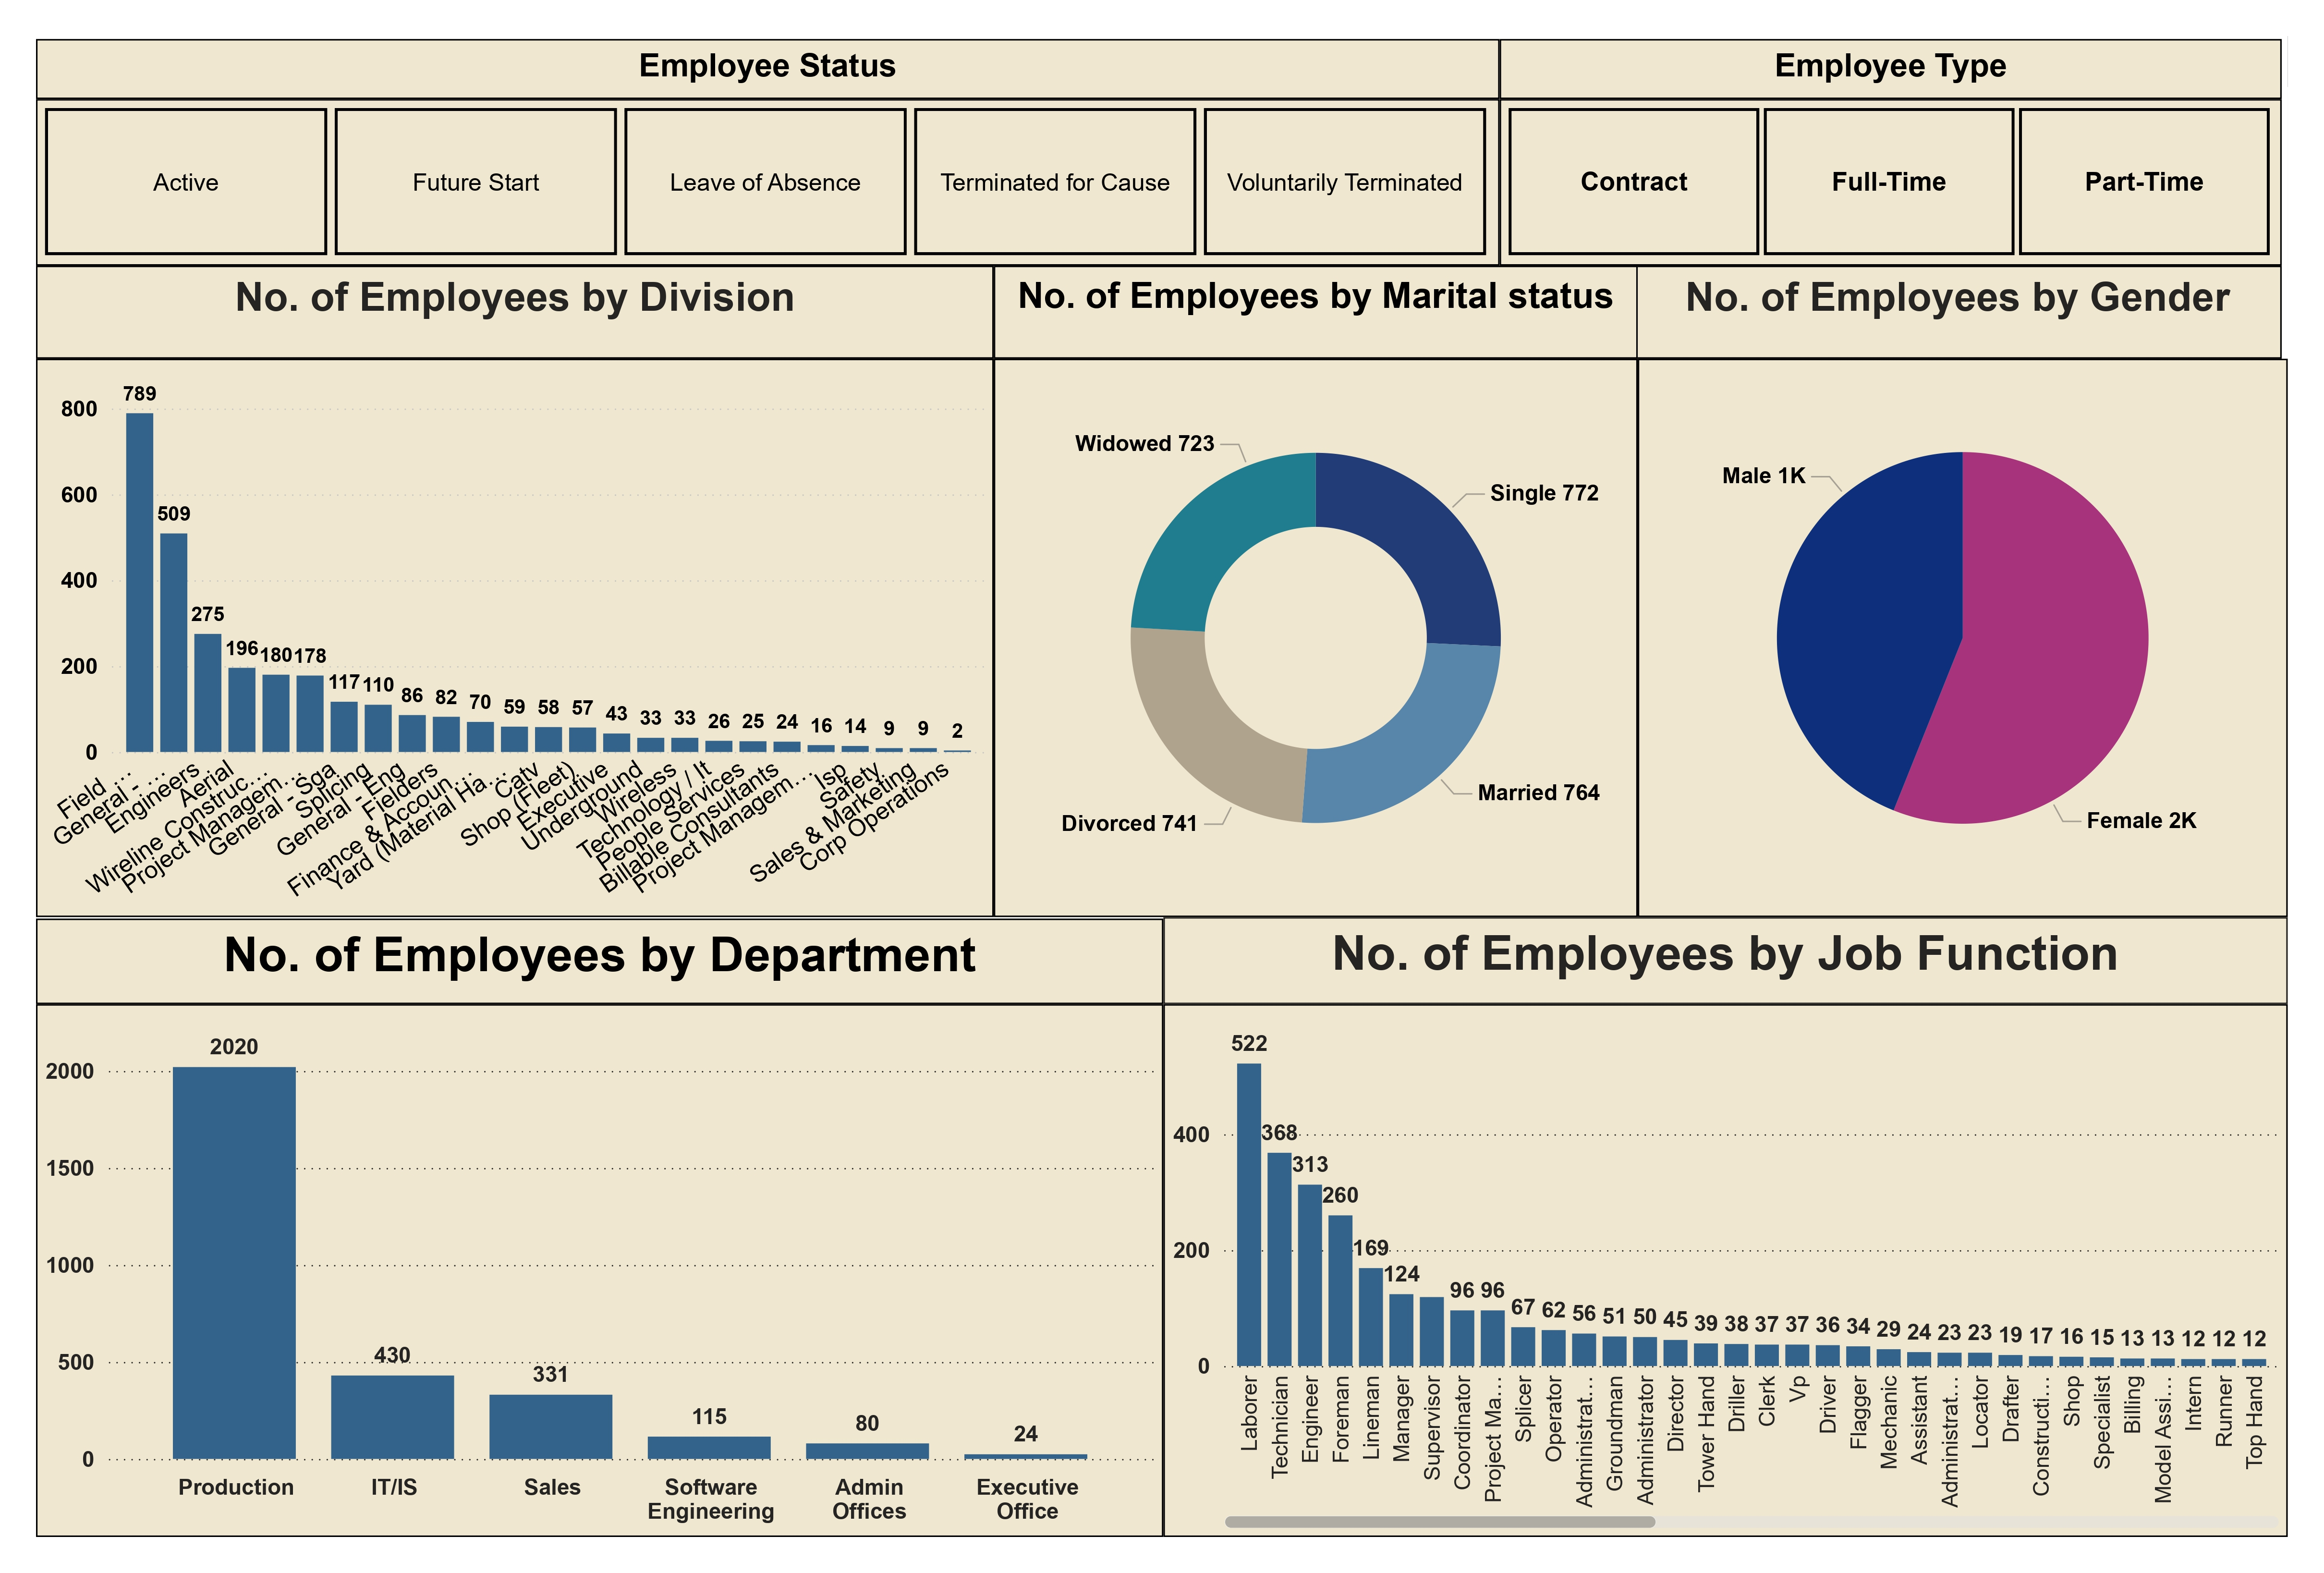

The page's visual inventory and layout, read from the dashboard file:
{"tool":"powerbi","page":{"name":"Employee Data","canvas":[1500,1000],"ordinal":0},"visuals":[{"type":"columnChart","fields":{"Y":["employee_data.No.of employees"],"Category":["employee_data.JobFunction"]},"box":[751,644.9,749,355.1],"z":0},{"type":"clusteredColumnChart","fields":{"Y":["employee_data.No.of employees"],"Category":["employee_data.DepartmentType"]},"box":[0,644.9,751,355.1],"z":1000},{"type":"textbox","box":[0,587.8,751,57.1],"z":2000},{"type":"textbox","box":[750.9,587.3,749.1,58.2],"z":3000},{"type":"clusteredColumnChart","fields":{"Y":["employee_data.No.of employees"],"Category":["employee_data.Division"]},"box":[0,214.5,638.2,372.7],"z":4000},{"type":"pieChart","fields":{"Y":["employee_data.No.of employees"],"Category":["employee_data.GenderCode"]},"box":[1067.3,214.5,432.7,372.7],"z":5000},{"type":"donutChart","fields":{"Category":["employee_data.MaritalDesc"],"Y":["employee_data.No.of employees"]},"box":[638.2,214.5,429.1,372.7],"z":6000},{"type":"advancedSlicerVisual","fields":{"Values":["employee_data.EmployeeType"]},"box":[974.5,41.8,521.8,110.9],"z":7000},{"type":"advancedSlicerVisual","fields":{"Values":["employee_data.EmployeeStatus"]},"box":[0,41.8,974.5,110.9],"z":8000},{"type":"textbox","box":[1063.6,152.7,432.7,61.8],"z":9000},{"type":"textbox","box":[638.2,152.7,429.1,61.8],"z":10000},{"type":"textbox","box":[0,152.7,638.2,61.8],"z":11000},{"type":"textbox","box":[0,1.8,974.5,40],"z":12000},{"type":"textbox","box":[974.5,1.8,521.8,40],"z":13000}]}

Visuals, with their boxes in screenshot pixels (x1, y1, x2, y2):
columnChart - employee_data.No.of employees x employee_data.JobFunction: left=1161, top=993, right=2265, bottom=1516
clusteredColumnChart - employee_data.No.of employees x employee_data.DepartmentType: left=54, top=993, right=1161, bottom=1516
textbox: left=54, top=909, right=1161, bottom=993
textbox: left=1161, top=908, right=2265, bottom=994
clusteredColumnChart - employee_data.No.of employees x employee_data.Division: left=54, top=358, right=995, bottom=908
pieChart - employee_data.No.of employees x employee_data.GenderCode: left=1628, top=358, right=2265, bottom=908
donutChart - employee_data.MaritalDesc x employee_data.No.of employees: left=995, top=358, right=1628, bottom=908
advancedSlicerVisual - employee_data.EmployeeType: left=1491, top=104, right=2260, bottom=268
advancedSlicerVisual - employee_data.EmployeeStatus: left=54, top=104, right=1491, bottom=268
textbox: left=1622, top=268, right=2260, bottom=358
textbox: left=995, top=268, right=1628, bottom=358
textbox: left=54, top=268, right=995, bottom=358
textbox: left=54, top=45, right=1491, bottom=104
textbox: left=1491, top=45, right=2260, bottom=104
